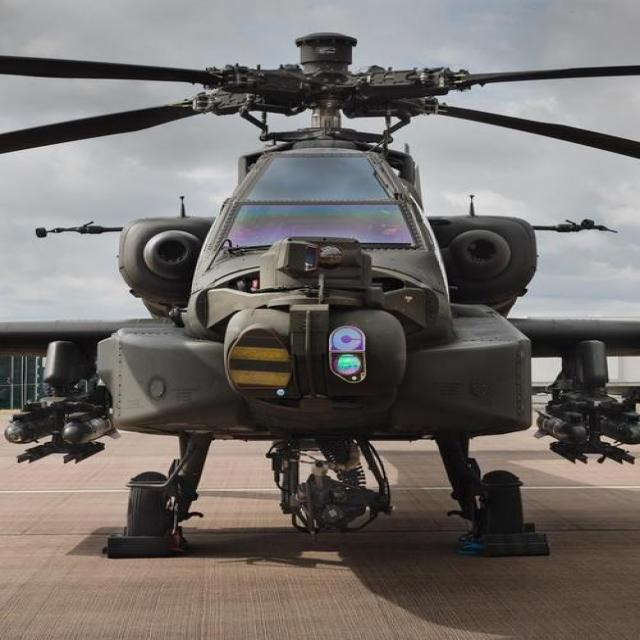MIL_HELO: (0, 25, 640, 565)
